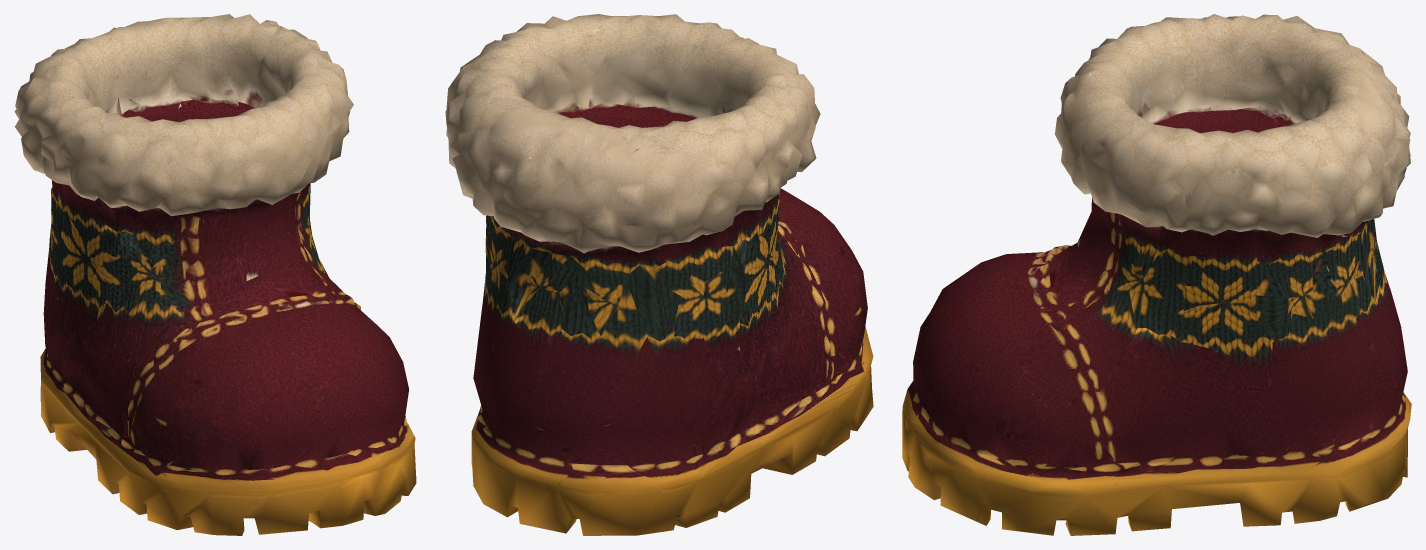
The model's file is boot-right.fbx.
3 views of the same model, side by side, from view 1: azimuth 30°, elevation 25°; view 2: azimuth 150°, elevation 25°; view 3: azimuth 270°, elevation 25° (orthographic). The views are drawn at different scales.
Parts seen in each view (by area): view 1: boot-right; view 2: boot-right; view 3: boot-right.
Part boxes in pixels (left/top/right/bottom): boot-right: left=14, top=14, right=416, bottom=535; boot-right: left=445, top=14, right=873, bottom=535; boot-right: left=902, top=14, right=1411, bottom=535.
Size of the model in its own units: 18.14 by 21.99 by 25.67.
1 material, 1 textured.
